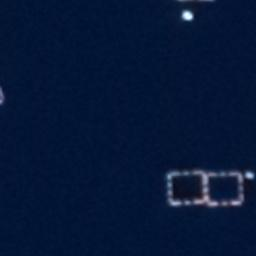square_solid: (162, 165, 211, 210), (201, 168, 247, 212)
